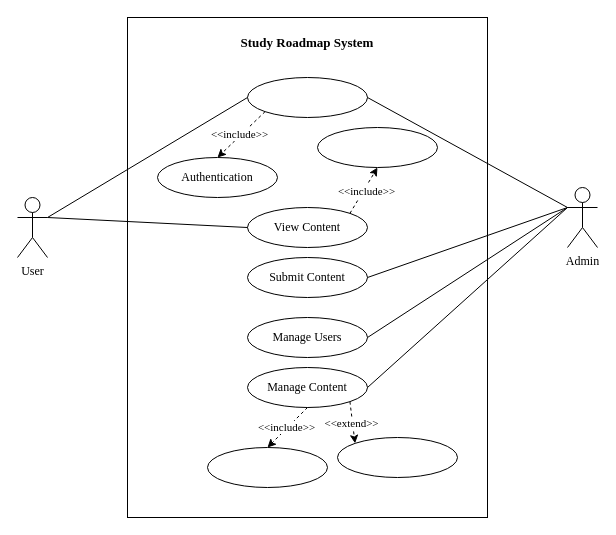
The diagram is 616 pixels wide and 535 high, and some of its shapes have lost their labels. The shapes that lost their labels are listed below. From the top down, each one's centre as x and y in pixels, then its label:
At point (307, 97): "Register/ Login".
At point (377, 147): "Rate Content".
At point (267, 467): "Add Content".
At point (397, 457): "Remove Content".
